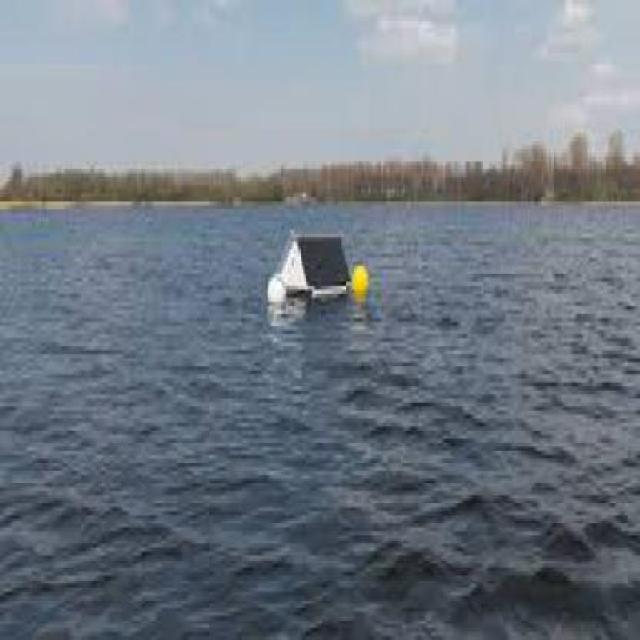buoy: (262, 219, 378, 339)
